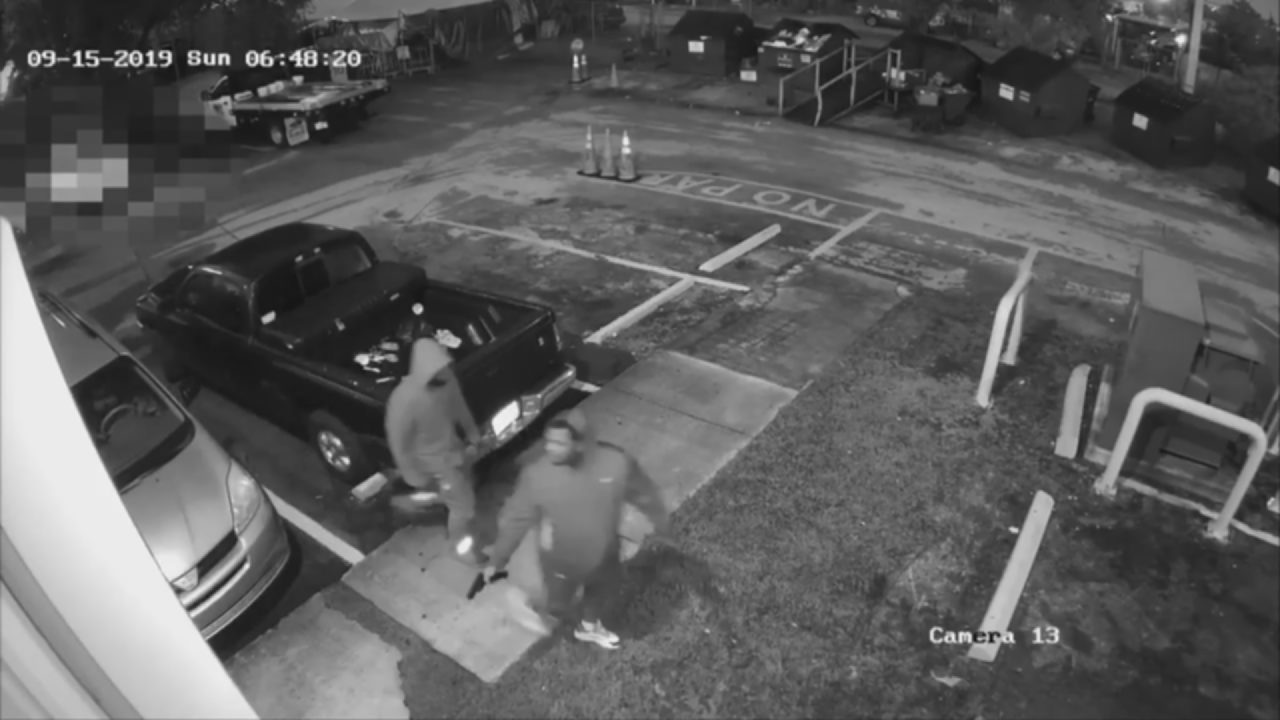Person: (500, 404, 677, 648), (369, 332, 494, 575)
